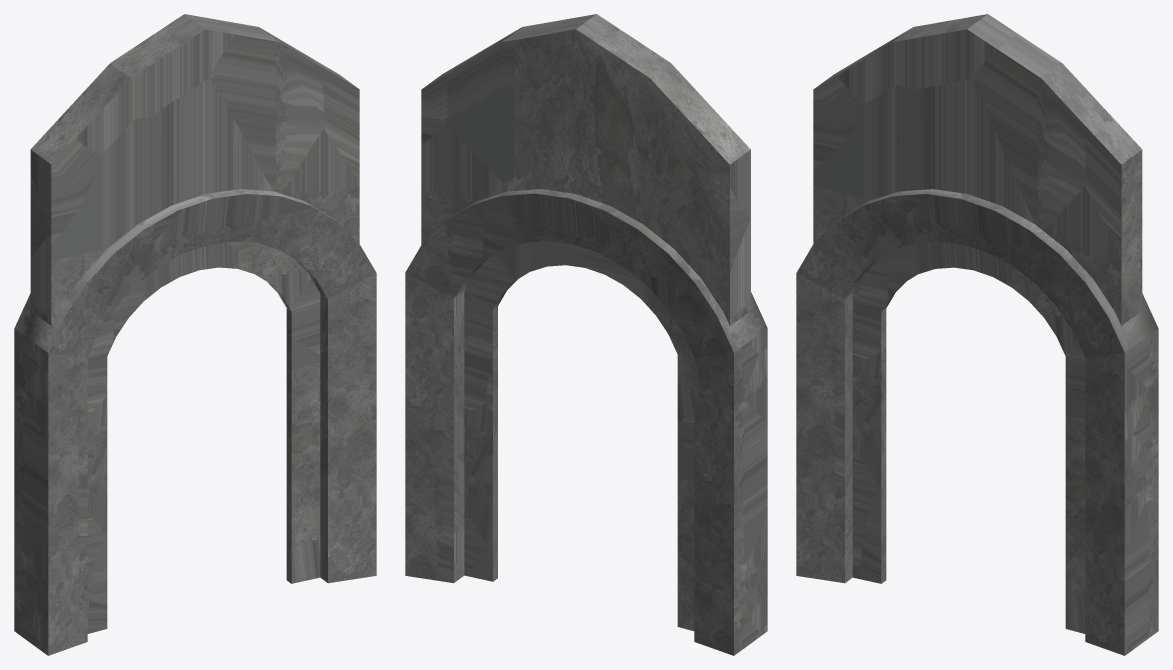
File: PBR - Metallic Roughness Alpha-blend.glb
The picture shows the model from 3 angles, left to right: view 1: azimuth 30°, elevation 25°; view 2: azimuth 150°, elevation 25°; view 3: azimuth 330°, elevation 25°; orthographic projection.
Visible parts, largest first — view 1: Cube.001; view 2: Cube.001; view 3: Cube.001.
Part boxes in pixels (x1=…): Cube.001: x1=14, y1=14, x2=376, y2=655; Cube.001: x1=405, y1=14, x2=767, y2=655; Cube.001: x1=796, y1=14, x2=1158, y2=655.
Size of the model in its own units: 2.13 by 3.61 by 0.379.
1 material, 1 textured.
